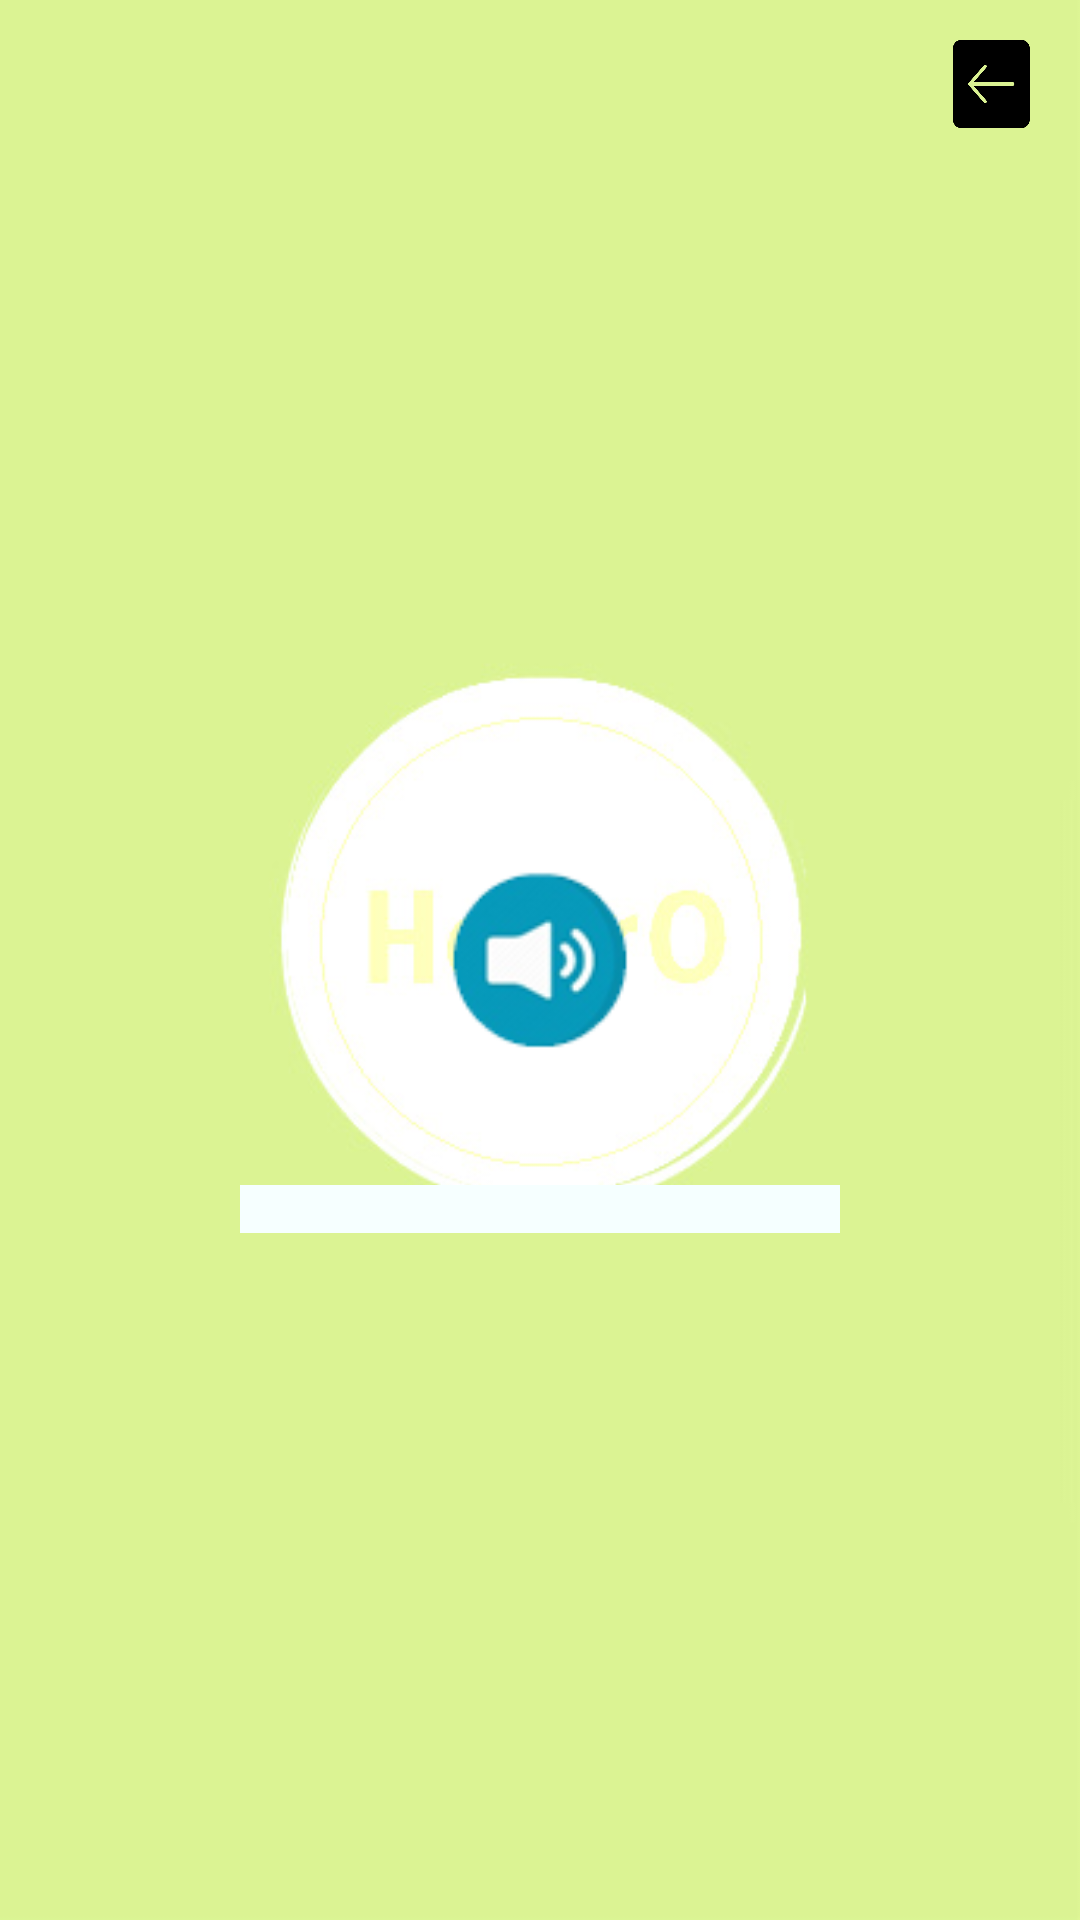

Named icons in this screenshot (1080*1920) and their bounding boxes, (x1, y1, x2, y2):
backimgj: (953, 40, 1030, 128)
